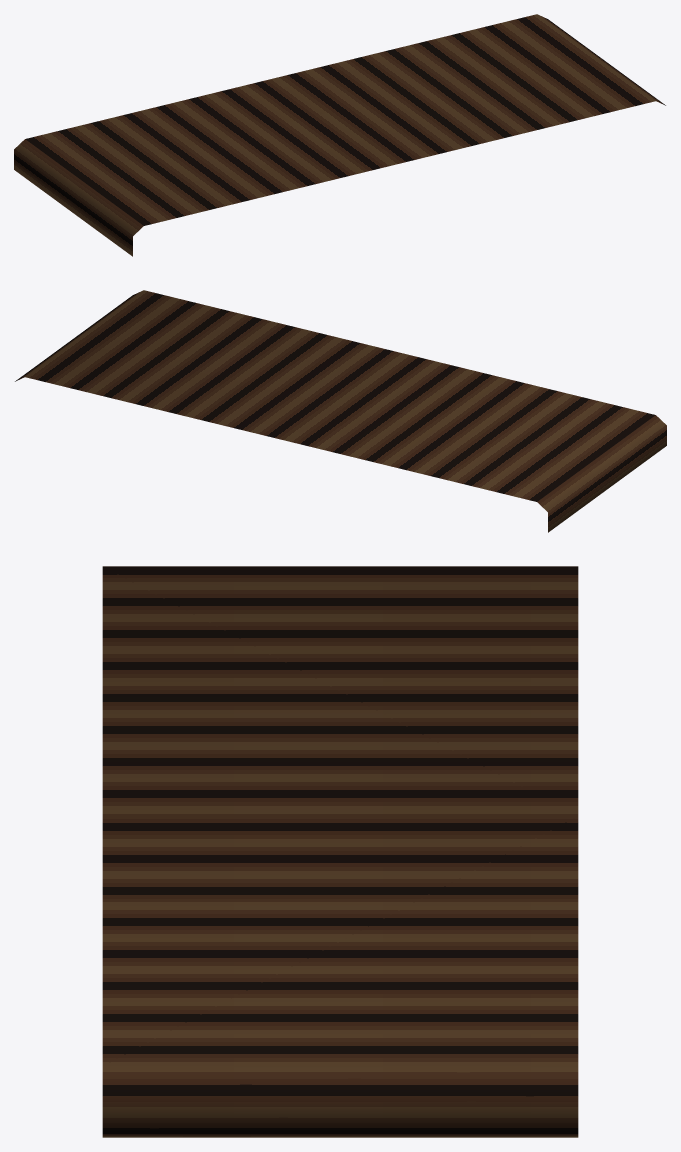
File: ConveyerSmallBelt.glb
3 views of the same model, one above another, from view 1: azimuth 30°, elevation 25°; view 2: azimuth 150°, elevation 25°; view 3: azimuth 270°, elevation 25° (orthographic). The views are drawn at different scales.
Visible parts, largest first — view 1: ConveyerSmallBelt; view 2: ConveyerSmallBelt; view 3: ConveyerSmallBelt.
Part boxes in pixels (left/top/right/bottom): ConveyerSmallBelt: left=14, top=14, right=665, bottom=256; ConveyerSmallBelt: left=15, top=290, right=666, bottom=532; ConveyerSmallBelt: left=102, top=566, right=578, bottom=1137.
Size of the model in its own units: 3.13 by 0.2 by 1.21.
1 material, 1 textured.
